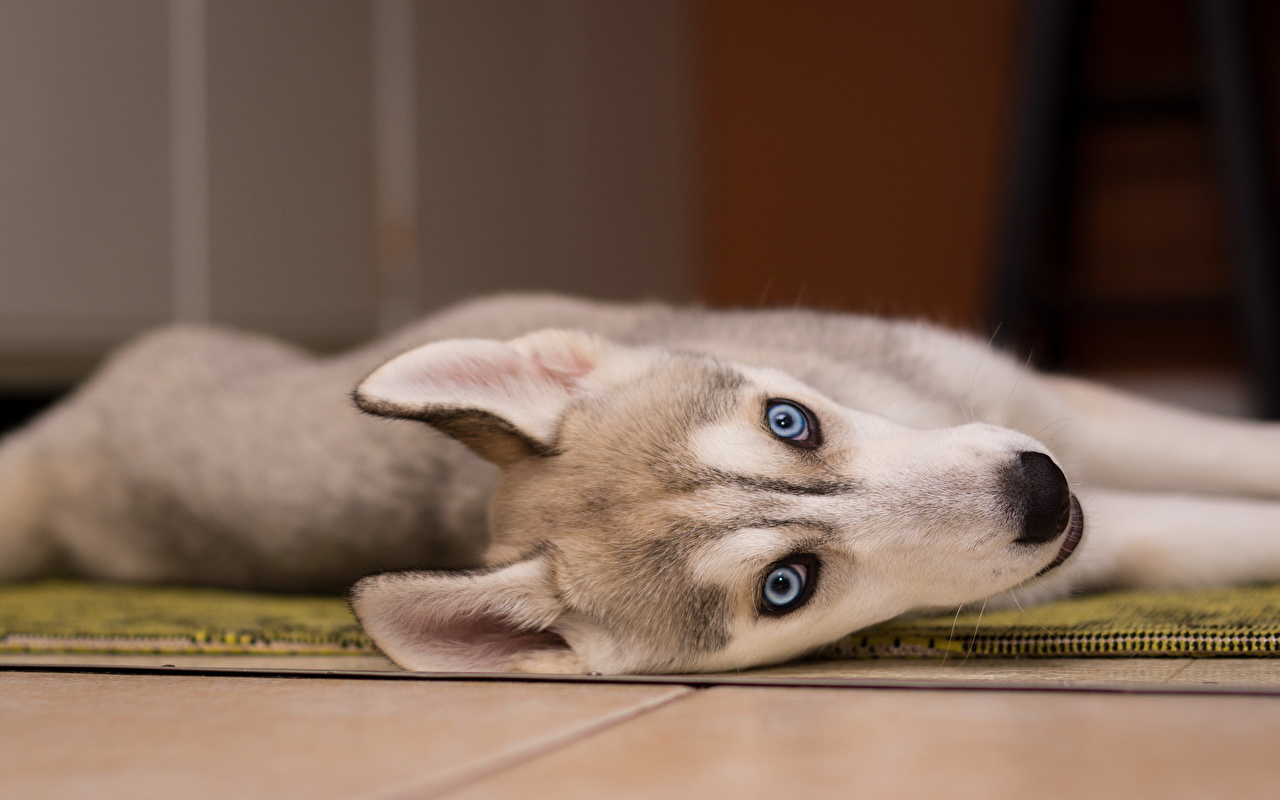husky: (289, 274, 1107, 717)
